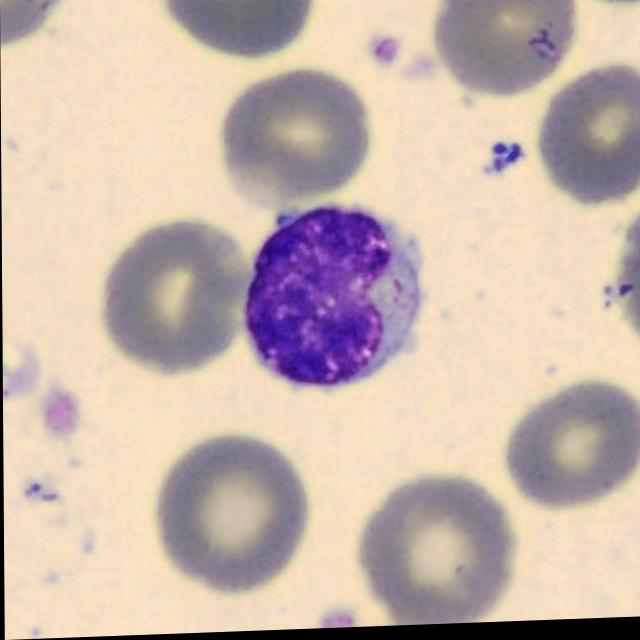Linfocito: (243, 204, 421, 390)
